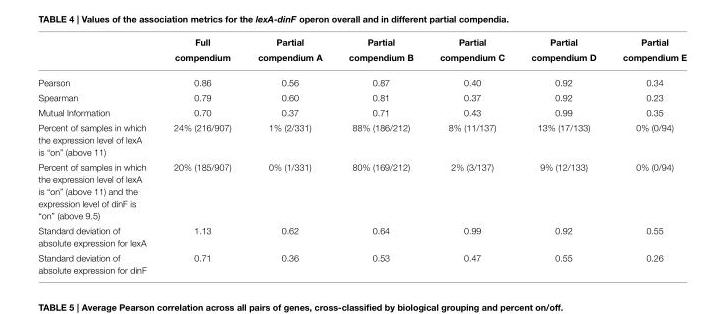table: (37, 37, 686, 274)
table column: (37, 37, 159, 274), (425, 37, 517, 274), (243, 37, 334, 274), (334, 37, 425, 274), (517, 37, 608, 274), (159, 37, 243, 274), (608, 37, 686, 274)
table column header: (37, 37, 686, 70)
table row: (37, 159, 686, 223), (37, 120, 686, 159), (37, 37, 686, 70), (37, 223, 686, 250), (37, 250, 686, 274), (37, 70, 686, 90), (37, 90, 686, 105), (37, 105, 686, 120)
